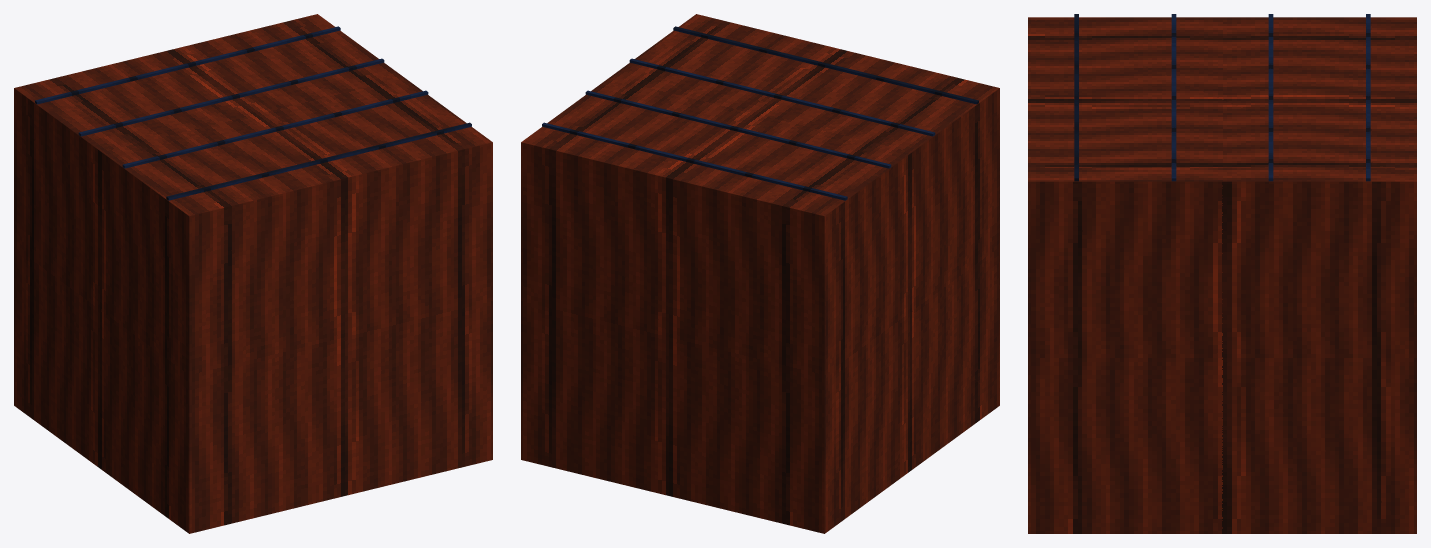
The model's file is bridge_deck.glb.
3 renders of one model, left to right at view 1: azimuth 30°, elevation 25°; view 2: azimuth 150°, elevation 25°; view 3: azimuth 270°, elevation 25°, orthographic. The views are drawn at different scales.
Visible parts, largest first — view 1: Body; view 2: Body; view 3: Body.
Part boxes in pixels (box(x1,y1,x2,y2)): Body: box(14, 14, 492, 533); Body: box(521, 14, 999, 533); Body: box(1028, 14, 1416, 533).
Bounding box in the file's own units: 1 × 1.01 × 1.
Materials: 2 (2 with a texture image).
